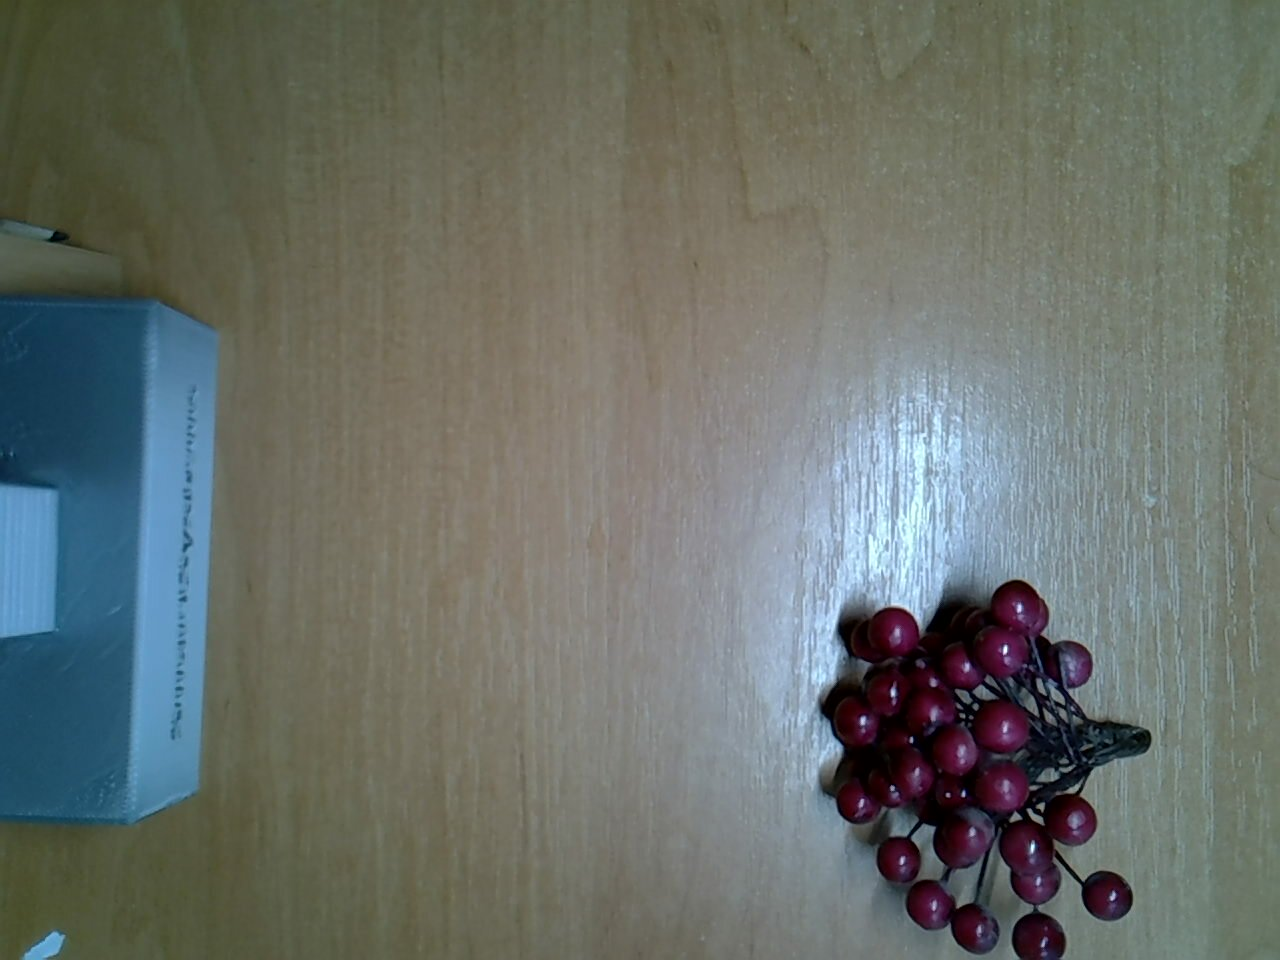berries: (830, 568, 1153, 956)
